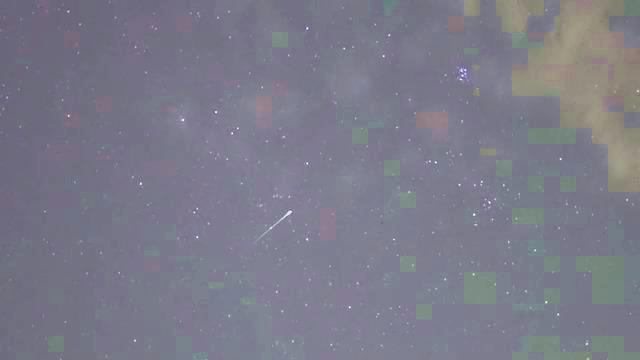meteorite: (238, 203, 313, 245)
